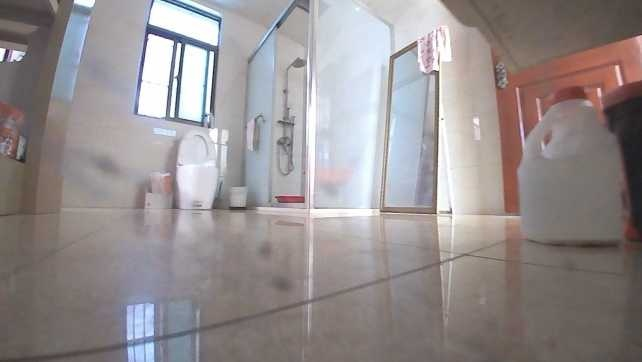bottle: (515, 83, 629, 248)
toilet: (173, 128, 221, 211)
